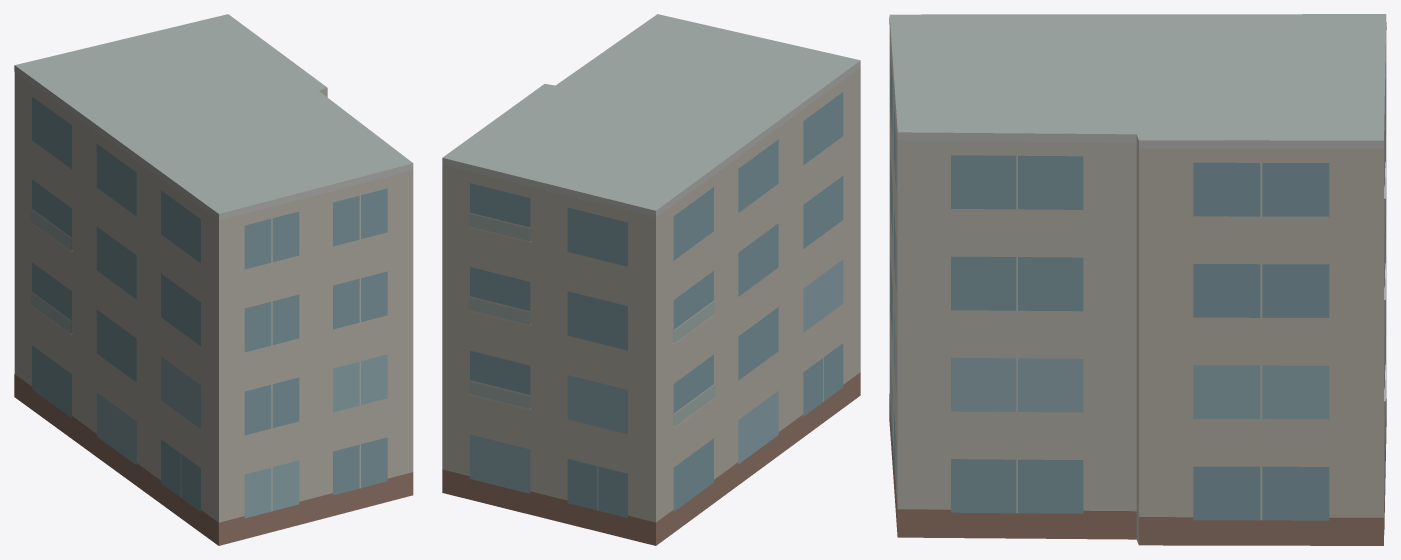
Rendered from survey-upis-32935948.glb.
3 renders of one model, left to right at view 1: azimuth 30°, elevation 25°; view 2: azimuth 150°, elevation 25°; view 3: azimuth 270°, elevation 25°, orthographic. The views are drawn at different scales.
Visible parts, largest first — view 1: survey-upis-32935948.tmp; view 2: survey-upis-32935948.tmp; view 3: survey-upis-32935948.tmp.
Boxes of the visible parts, bbox=[...] form: survey-upis-32935948.tmp: bbox=[14, 14, 413, 545]; survey-upis-32935948.tmp: bbox=[442, 14, 860, 545]; survey-upis-32935948.tmp: bbox=[889, 14, 1386, 545].
Bounding box in the file's own units: 8.22 × 12.2 × 13.57.
